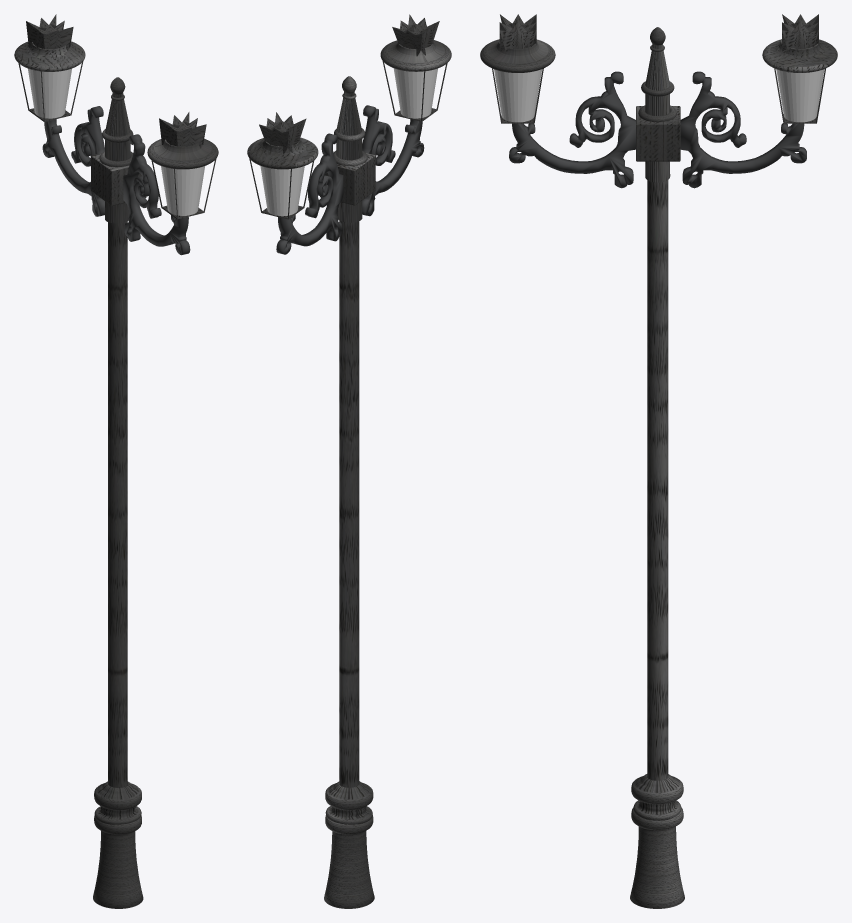
Rendered from Lamp fin (1).fbx.
3 views of the same model, side by side, from view 1: azimuth 30°, elevation 25°; view 2: azimuth 150°, elevation 25°; view 3: azimuth 270°, elevation 25° (orthographic). The views are drawn at different scales.
Visible parts, largest first — view 1: Cylinder, Plane, Plane.001, Plane.002, Circle.001, Circle, Torus.004, Torus.003, Cube, Cube.004, Cube.002; view 2: Cylinder, Plane, Plane.002, Plane.001, Circle.001, Circle, Torus.003, Torus.004, Cube, Cube.002, Cube.004; view 3: Cylinder, Plane, Plane.001, Plane.002, Cube, Circle, Circle.001, Torus.004, Torus.003, Cube.004, Cube.002.
Boxes of the visible parts, x1,y1,x2,y2 form: Cylinder: (105, 93, 130, 787); Plane: (93, 781, 143, 908); Plane.001: (123, 134, 190, 255); Plane.002: (42, 106, 104, 216); Circle.001: (161, 166, 204, 215); Circle: (28, 68, 71, 118); Torus.004: (147, 139, 218, 169); Torus.003: (14, 41, 85, 71); Cube: (91, 151, 146, 205); Cube.004: (159, 112, 206, 148); Cube.002: (26, 14, 73, 50); Cylinder: (336, 92, 362, 787); Plane: (324, 781, 374, 908); Plane.002: (276, 133, 343, 254); Plane.001: (362, 105, 424, 216); Circle.001: (393, 68, 437, 118); Circle: (260, 166, 304, 216); Torus.003: (247, 137, 318, 169); Torus.004: (380, 40, 451, 71); Cube: (320, 150, 375, 205); Cube.002: (259, 112, 306, 154); Cube.004: (392, 14, 439, 56); Cylinder: (645, 44, 670, 780); Plane: (630, 774, 684, 908); Plane.001: (509, 71, 635, 188); Plane.002: (680, 71, 806, 188); Cube: (636, 106, 680, 161); Circle: (776, 69, 824, 122); Circle.001: (494, 69, 542, 122); Torus.004: (480, 39, 555, 72); Torus.003: (762, 39, 837, 72); Cube.004: (499, 14, 536, 54); Cube.002: (782, 14, 818, 54).
Size of the model in its own units: 172 by 2200 by 815.
